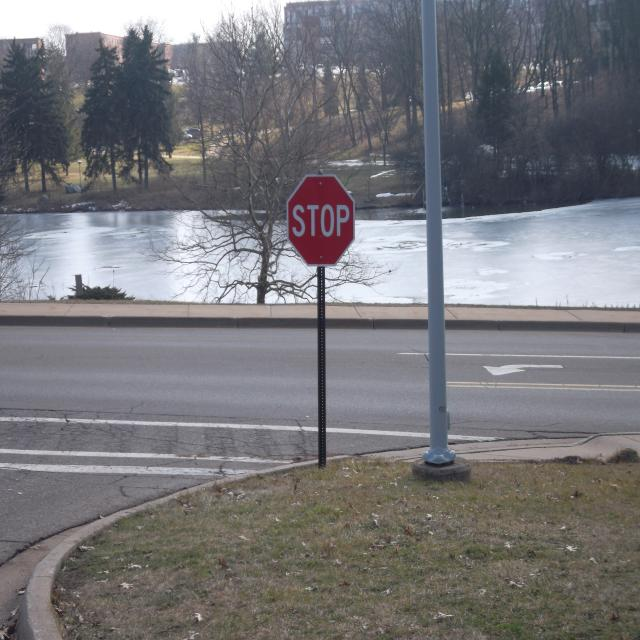stop: (284, 170, 358, 269)
